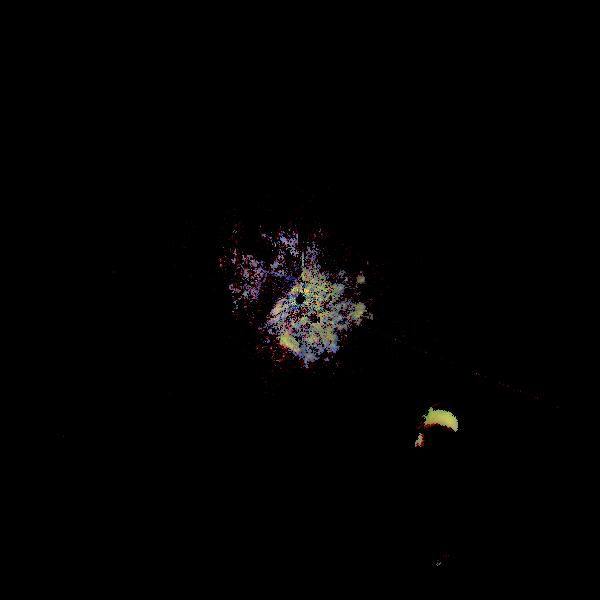roost: (255, 332, 333, 410), (409, 406, 481, 478)
